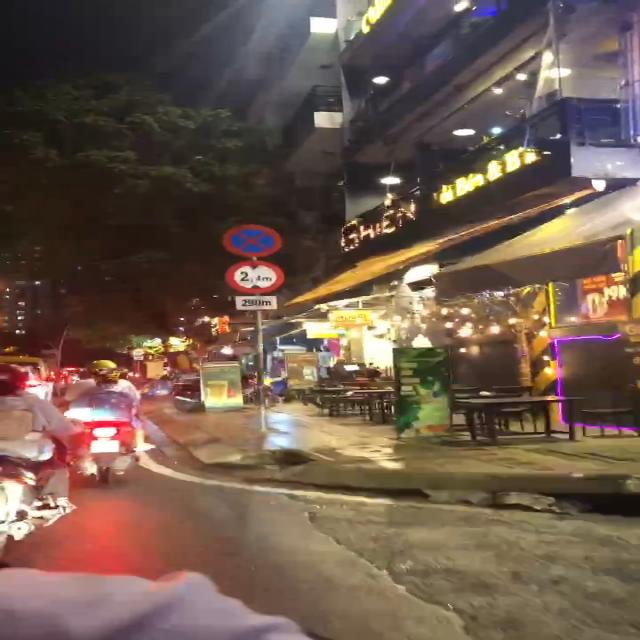Bien bao cam dung xe va do xe: (219, 221, 285, 258)
Bien bao han che chieu cao: (224, 260, 290, 296)
